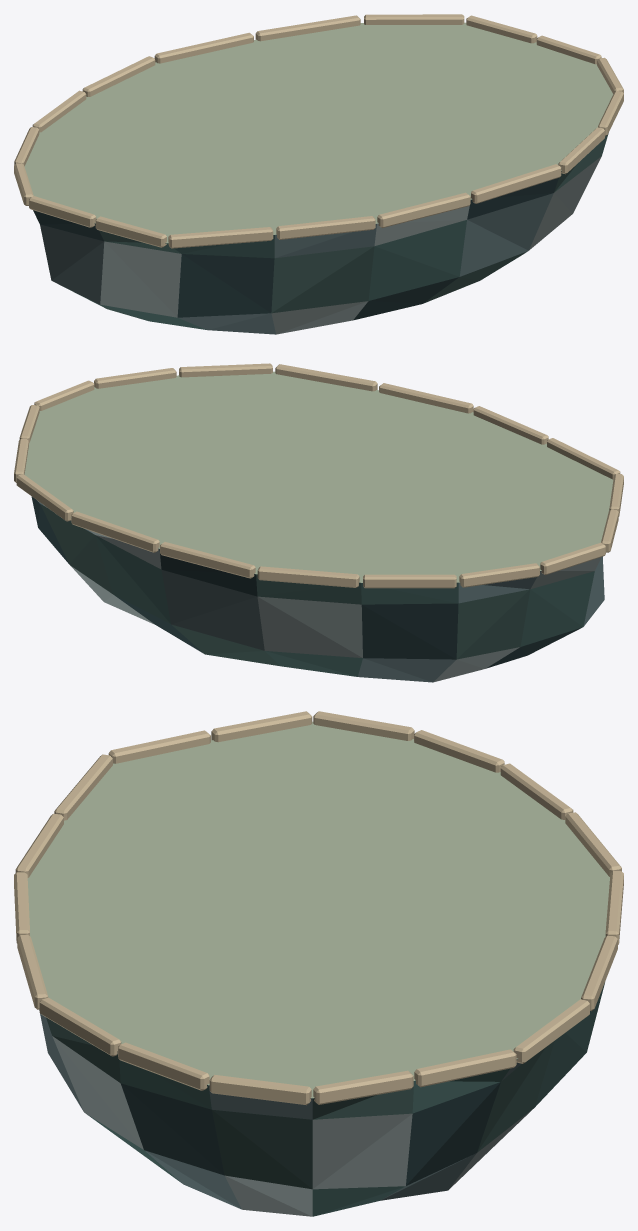
Rendered from Environment_FloatingIsland.fbx.
The picture shows the model from 3 angles, top to bottom: view 1: azimuth 30°, elevation 25°; view 2: azimuth 150°, elevation 25°; view 3: azimuth 270°, elevation 25°; orthographic projection. The views are drawn at different scales.
Visible parts, largest first — view 1: Environment_FloatingIsland; view 2: Environment_FloatingIsland; view 3: Environment_FloatingIsland.
Boxes of the visible parts, bbox=[...] form: Environment_FloatingIsland: bbox=[14, 14, 623, 334]; Environment_FloatingIsland: bbox=[14, 363, 623, 682]; Environment_FloatingIsland: bbox=[14, 711, 623, 1216].
Size of the model in its own units: 13.3 by 2.97 by 9.
